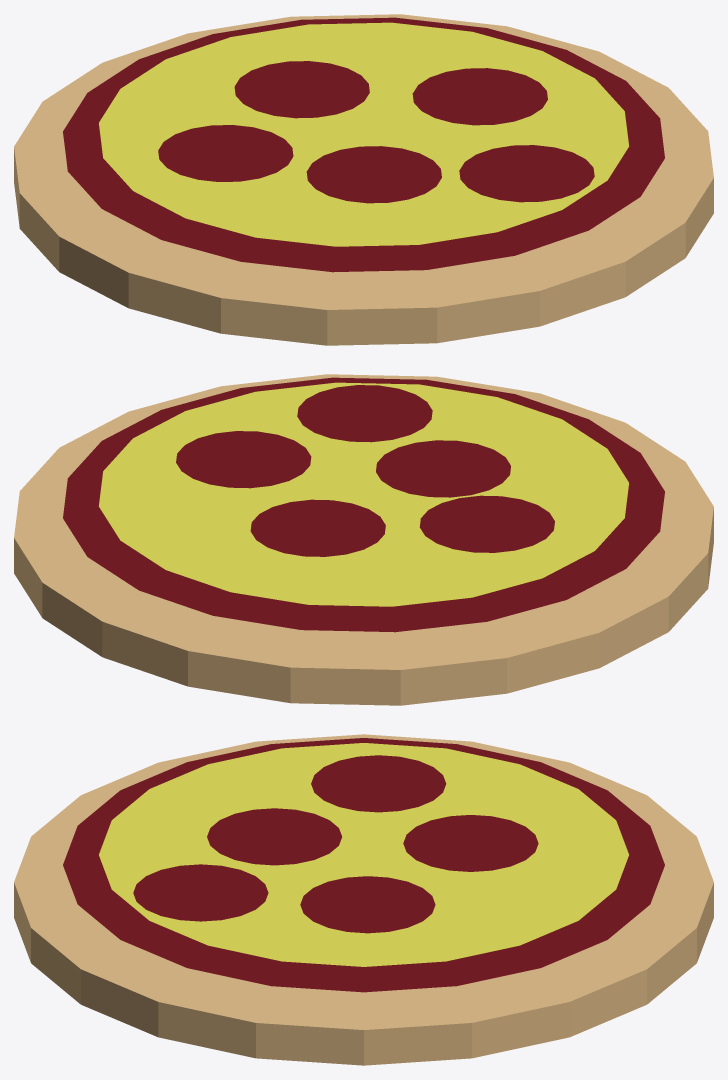
The model's file is pizza.glb.
3 renders of one model, top to bottom at view 1: azimuth 30°, elevation 25°; view 2: azimuth 150°, elevation 25°; view 3: azimuth 270°, elevation 25°, orthographic.
Parts seen in each view (by area): view 1: Circle, Circle.002, Circle.001, Circle.004, Circle.006, Circle.005, Circle.007, Circle.008; view 2: Circle, Circle.002, Circle.001, Circle.004, Circle.008, Circle.005, Circle.006, Circle.007; view 3: Circle, Circle.002, Circle.001, Circle.007, Circle.006, Circle.004, Circle.008, Circle.005.
Boxes of the visible parts, bbox=[...] form: Circle: bbox=[14, 14, 713, 345]; Circle.002: bbox=[99, 22, 629, 246]; Circle.001: bbox=[63, 17, 664, 272]; Circle.004: bbox=[306, 146, 441, 203]; Circle.006: bbox=[412, 68, 547, 125]; Circle.005: bbox=[234, 61, 369, 118]; Circle.007: bbox=[459, 145, 594, 202]; Circle.008: bbox=[158, 125, 293, 181]; Circle: bbox=[14, 374, 713, 705]; Circle.002: bbox=[98, 382, 628, 606]; Circle.001: bbox=[63, 377, 664, 632]; Circle.004: bbox=[376, 440, 510, 497]; Circle.008: bbox=[419, 495, 554, 552]; Circle.005: bbox=[250, 499, 385, 556]; Circle.006: bbox=[176, 431, 311, 488]; Circle.007: bbox=[297, 385, 432, 442]; Circle: bbox=[14, 734, 713, 1065]; Circle.002: bbox=[99, 743, 628, 966]; Circle.001: bbox=[63, 738, 664, 992]; Circle.007: bbox=[133, 864, 268, 921]; Circle.006: bbox=[300, 876, 435, 933]; Circle.004: bbox=[207, 808, 341, 865]; Circle.008: bbox=[311, 755, 446, 812]; Circle.005: bbox=[403, 815, 538, 871].
Size of the model in its own units: 4.78 by 0.5306 by 4.78.
